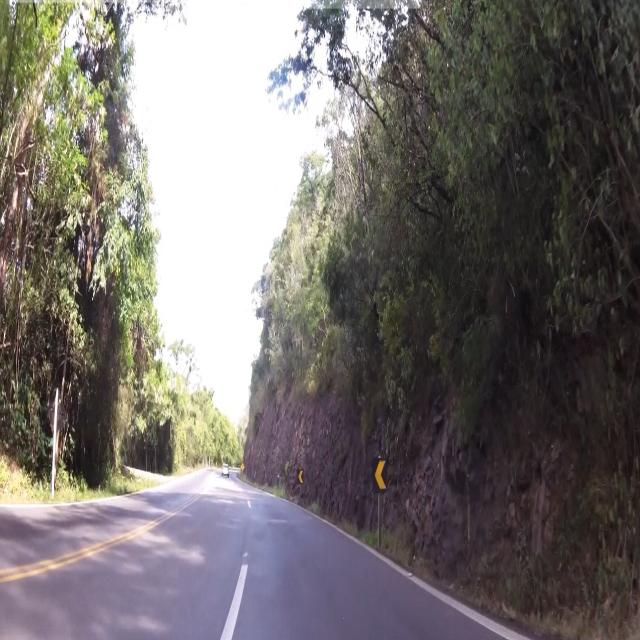Del: (373, 452, 387, 497), (296, 466, 306, 484)
